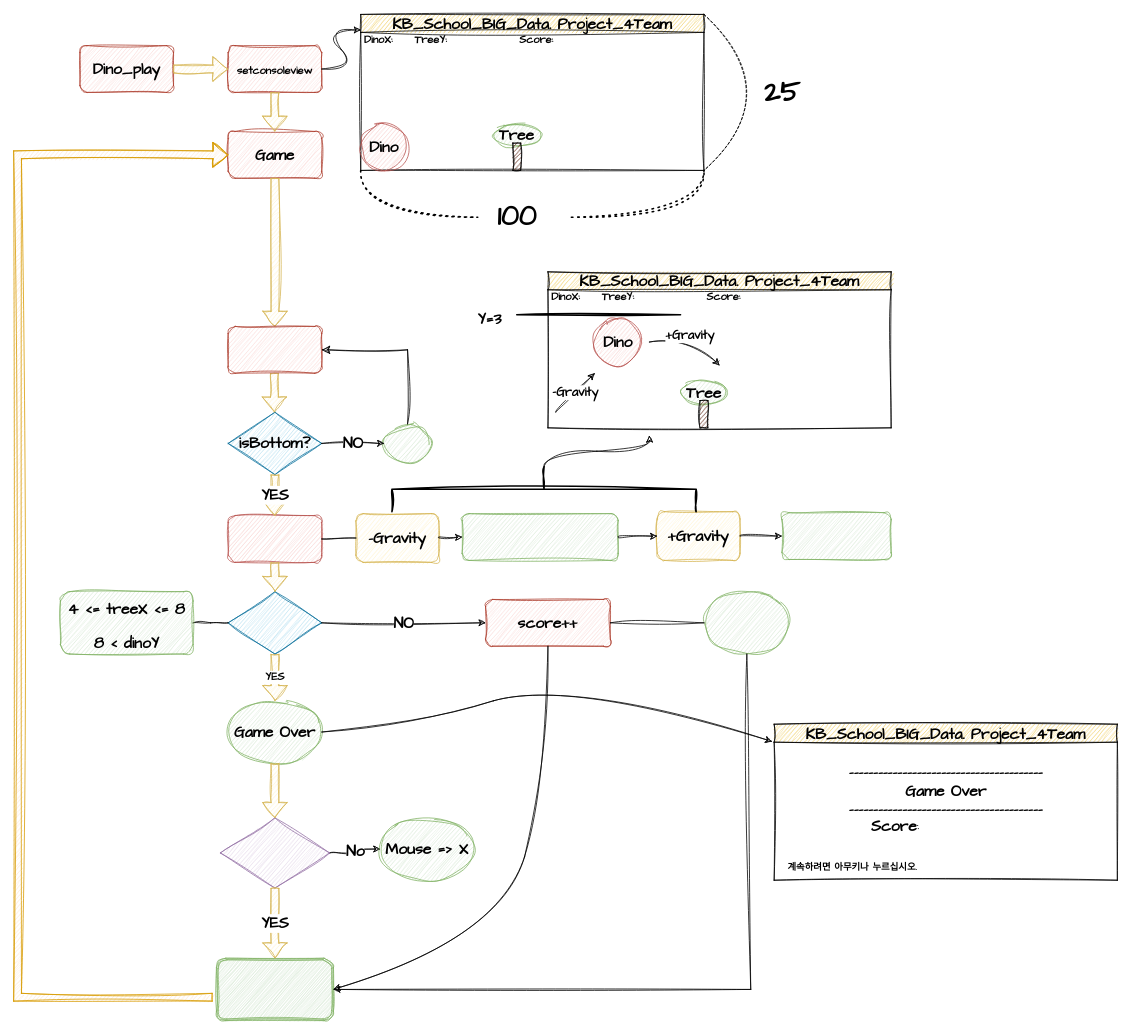
Image size: 1132x1034. Some labels were removed from this diagram. The shapes that lost their labels are listed below. From the top down, each one's centre as x and y in pixels, then its label:
At (274,349): "Click z".
At (407,443): "Run".
At (274,538): "Jumping".
At (539,536): "dinoY >= DINO_BOTTOM_y".
At (836,535): "Dino Going Bottom,".
At (274,622): "isCollosion?".
At (746,622): "return Tree".
At (275,852): "Return?".
At (274,989): "Return".
